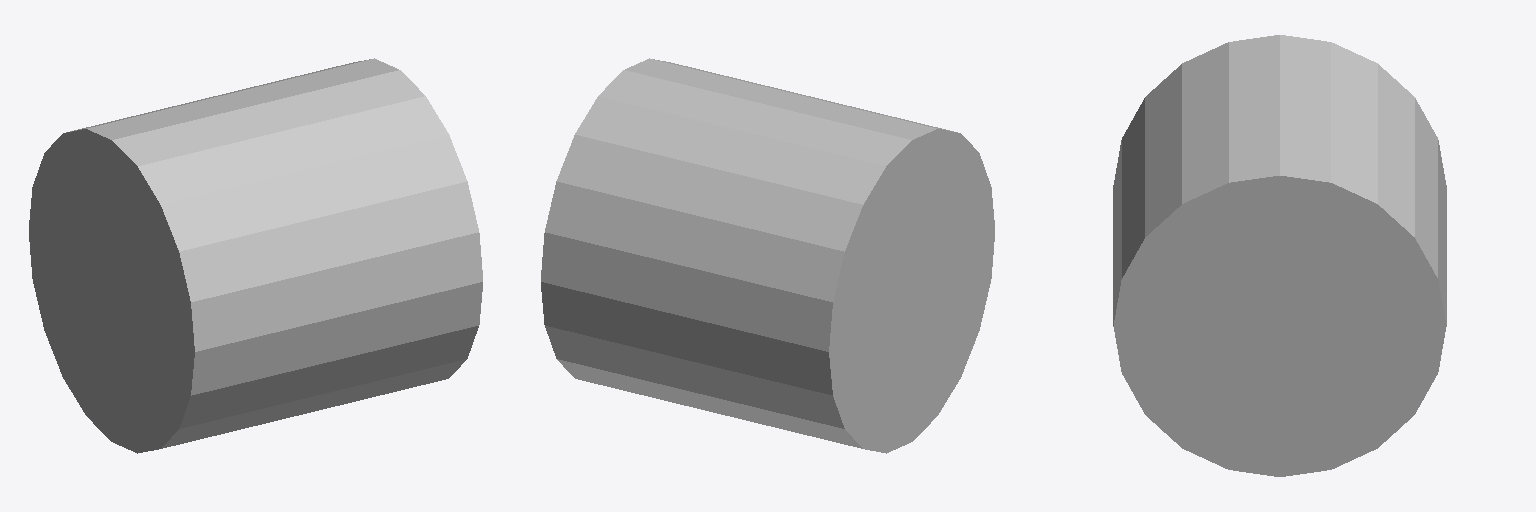
File: knob1.obj
The picture shows the model from 3 angles: view 1: azimuth 30°, elevation 25°; view 2: azimuth 150°, elevation 25°; view 3: azimuth 270°, elevation 25°; orthographic projection.
Parts seen in each view (by area): view 1: knob1 knobsNJunk; view 2: knob1 knobsNJunk; view 3: knob1 knobsNJunk.
Boxes of the visible parts, x1,y1,x2,y2 form: knob1 knobsNJunk: [29, 58, 482, 453]; knob1 knobsNJunk: [541, 58, 994, 453]; knob1 knobsNJunk: [1113, 35, 1446, 476].
Size of the model in its own units: 2 by 2 by 2.